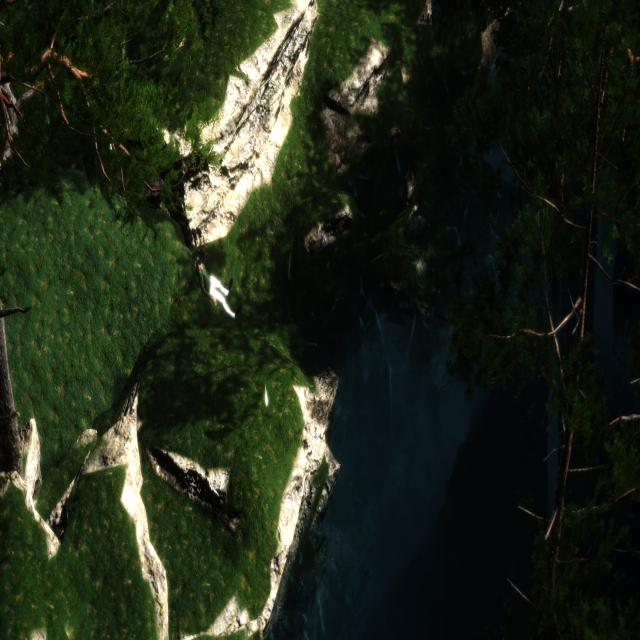Human: (195, 244, 242, 331)
